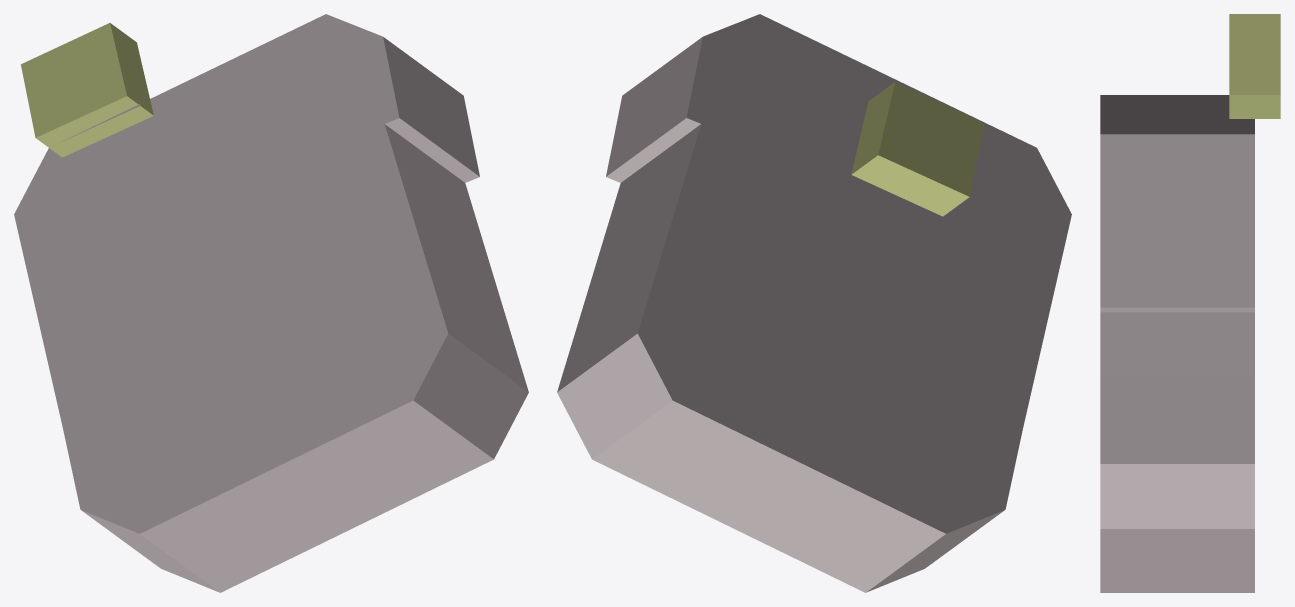
3 views of the same model, side by side, from view 1: azimuth 30°, elevation 25°; view 2: azimuth 150°, elevation 25°; view 3: azimuth 270°, elevation 25° (orthographic). The views are drawn at different scales.
Parts seen in each view (by area): view 1: 0_0_3_1_2_3_2; view 2: 0_0_3_1_2_3_2; view 3: 0_0_3_1_2_3_2.
Boxes of the visible parts, x1,y1,x2,y2 form: 0_0_3_1_2_3_2: (14,14,528,592); 0_0_3_1_2_3_2: (557,14,1071,592); 0_0_3_1_2_3_2: (1100,14,1280,592).
Size of the model in its own units: 55.95 by 62.22 by 21.
